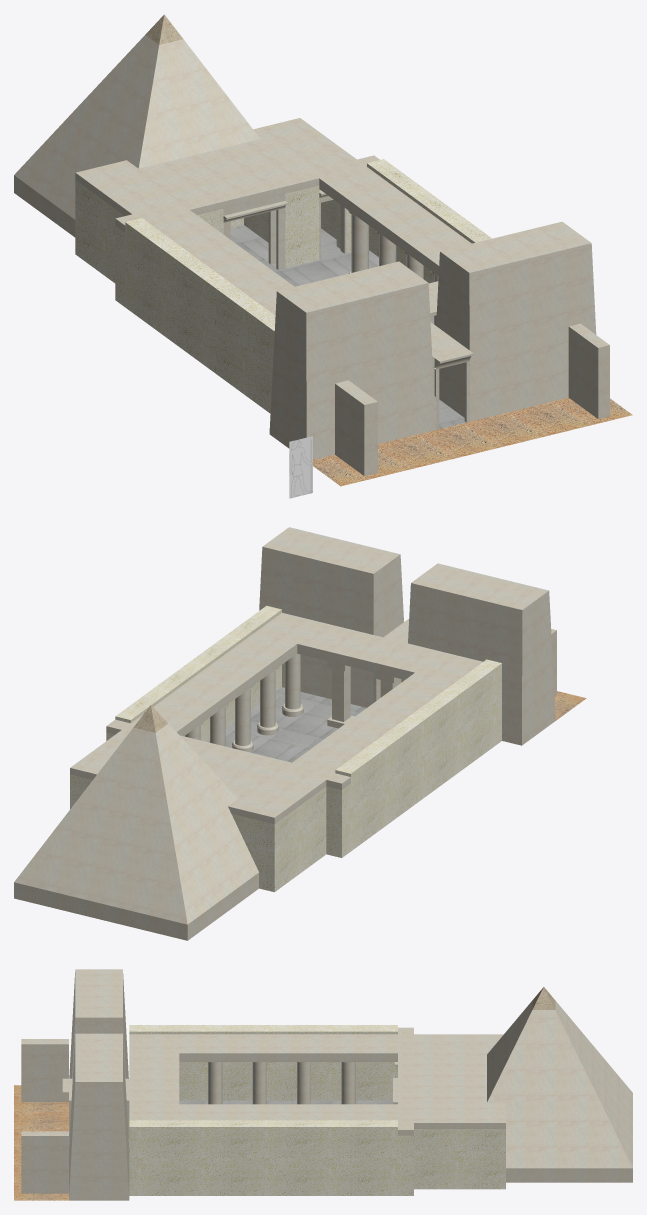
File: Tasahur_ST5.glb
3 renders of one model, top to bottom at view 1: azimuth 30°, elevation 25°; view 2: azimuth 150°, elevation 25°; view 3: azimuth 270°, elevation 25°, orthographic. The views are drawn at different scales.
Visible parts, largest first — view 1: Mesh19 main1 Model, Mesh20 Model, Mesh14 Back_Roof1 Model, Mesh17 ROOF1 Model, Mesh18 PylonGateway1 Model, Mesh7 Main_CHapel1 Model, Mesh22 Model, Mesh11 Round_Column8 Model; view 2: Mesh19 main1 Model, Mesh20 Model, Mesh17 ROOF1 Model, Mesh14 Back_Roof1 Model, Mesh13 Square_Column2 Model, Mesh8 Round_Column5 Model, Mesh6 Round_Column4 Model, Mesh3 Round_Column2 Model; view 3: Mesh19 main1 Model, Mesh20 Model, Mesh17 ROOF1 Model, Mesh14 Back_Roof1 Model, Mesh10 Round_Column7 Model, Mesh9 Round_Column6 Model, Mesh12 Round_Column9 Model, Mesh15 Round_Column10 Model, Mesh18 PylonGateway1 Model.
Boxes of the visible parts, <box> form: Mesh19 main1 Model: <box>75,159,632,486</box>; Mesh20 Model: <box>14,14,260,237</box>; Mesh14 Back_Roof1 Model: <box>75,118,379,232</box>; Mesh17 ROOF1 Model: <box>146,166,471,316</box>; Mesh18 PylonGateway1 Model: <box>430,322,473,429</box>; Mesh7 Main_CHapel1 Model: <box>223,194,288,269</box>; Mesh22 Model: <box>289,436,312,498</box>; Mesh11 Round_Column8 Model: <box>348,210,368,273</box>; Mesh19 main1 Model: <box>106,527,586,891</box>; Mesh20 Model: <box>14,705,274,940</box>; Mesh17 ROOF1 Model: <box>131,612,482,772</box>; Mesh14 Back_Roof1 Model: <box>70,719,350,824</box>; Mesh13 Square_Column2 Model: <box>327,661,354,728</box>; Mesh8 Round_Column5 Model: <box>257,667,278,735</box>; Mesh6 Round_Column4 Model: <box>282,653,303,716</box>; Mesh3 Round_Column2 Model: <box>232,685,253,752</box>; Mesh19 main1 Model: <box>14,969,505,1200</box>; Mesh20 Model: <box>487,987,632,1182</box>; Mesh17 ROOF1 Model: <box>129,1034,397,1120</box>; Mesh14 Back_Roof1 Model: <box>398,1027,505,1135</box>; Mesh10 Round_Column7 Model: <box>341,1062,355,1104</box>; Mesh9 Round_Column6 Model: <box>208,1062,222,1104</box>; Mesh12 Round_Column9 Model: <box>252,1062,266,1104</box>; Mesh15 Round_Column10 Model: <box>297,1062,310,1104</box>; Mesh18 PylonGateway1 Model: <box>62,1078,129,1137</box>.
Bounding box in the file's own units: 10.1 × 5.5 × 19.49.
8 materials, 7 textured.
